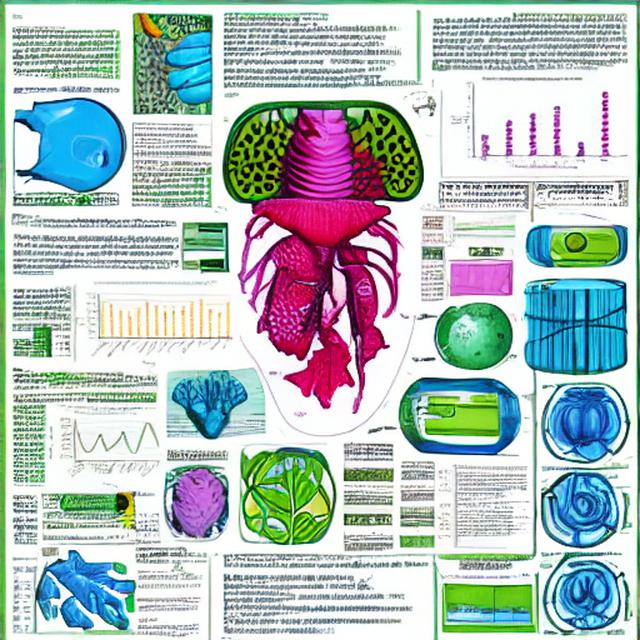Graph: (445, 71, 621, 174), (70, 275, 235, 368), (49, 404, 165, 487)
